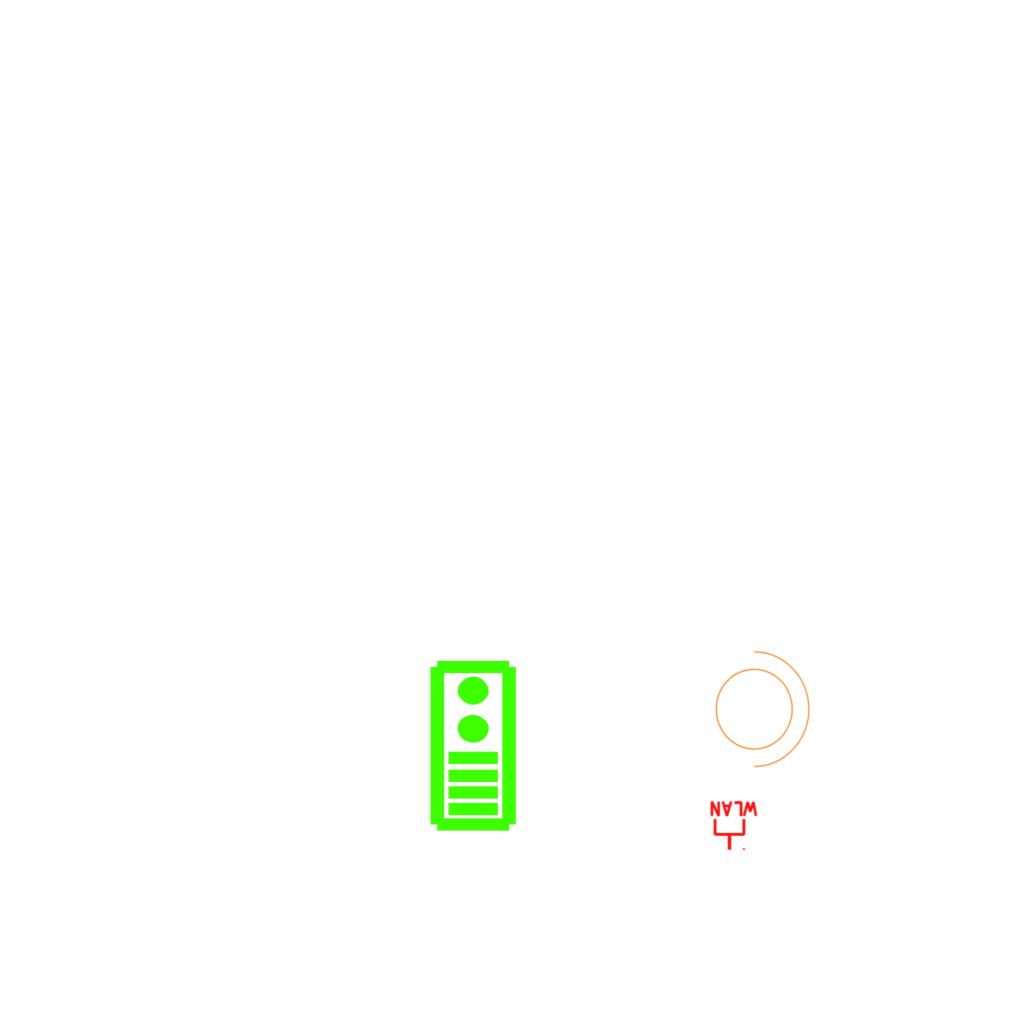Gegensprechanlage_mit_Video: (424, 657, 519, 833)
Scheinwerfer_fuer_Alarmbeleuchtung: (703, 640, 815, 772)
WLAN: (708, 800, 760, 852)
